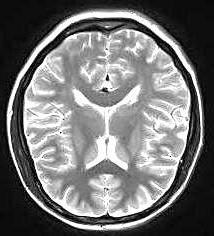Normal_Brain: (8, 6, 214, 236)
